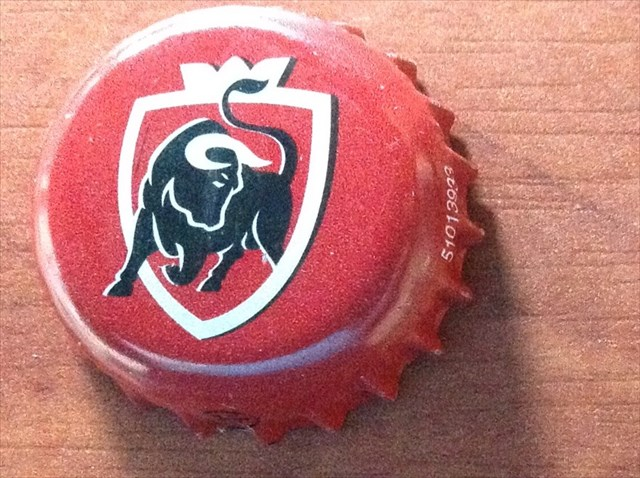jupiler: (28, 3, 487, 448)
